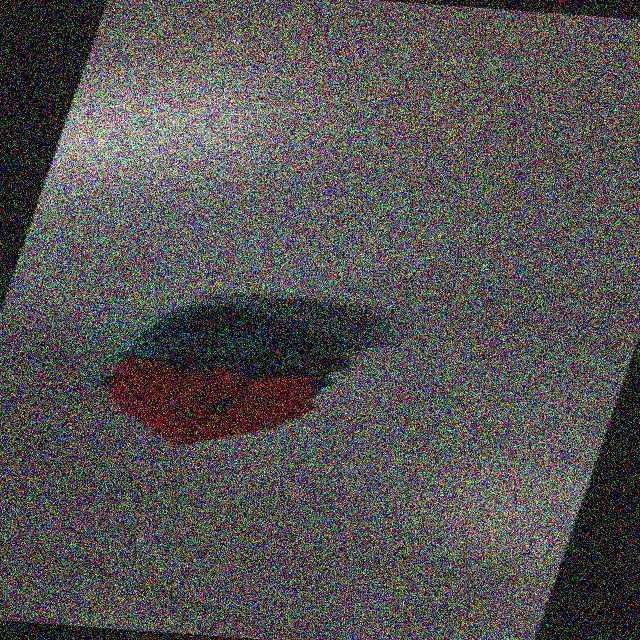House: (75, 298, 389, 466)
